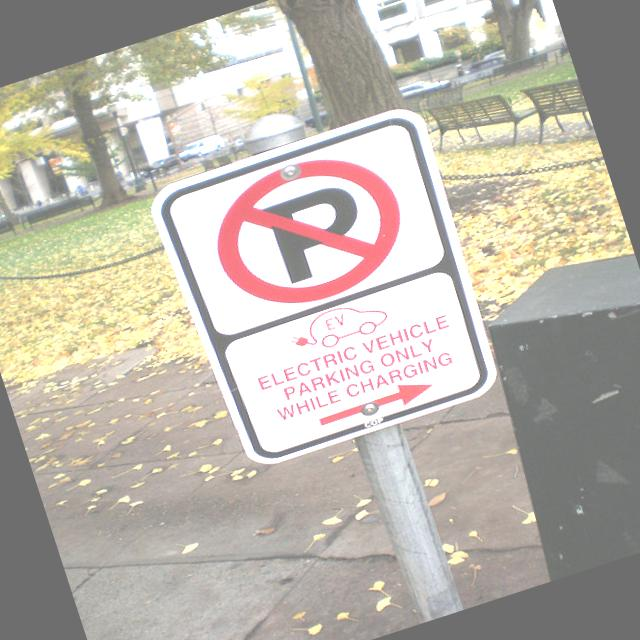Vehicle: (448, 53, 509, 88), (174, 132, 228, 164), (397, 72, 452, 102), (176, 132, 227, 164), (152, 153, 180, 173), (0, 211, 11, 237)
